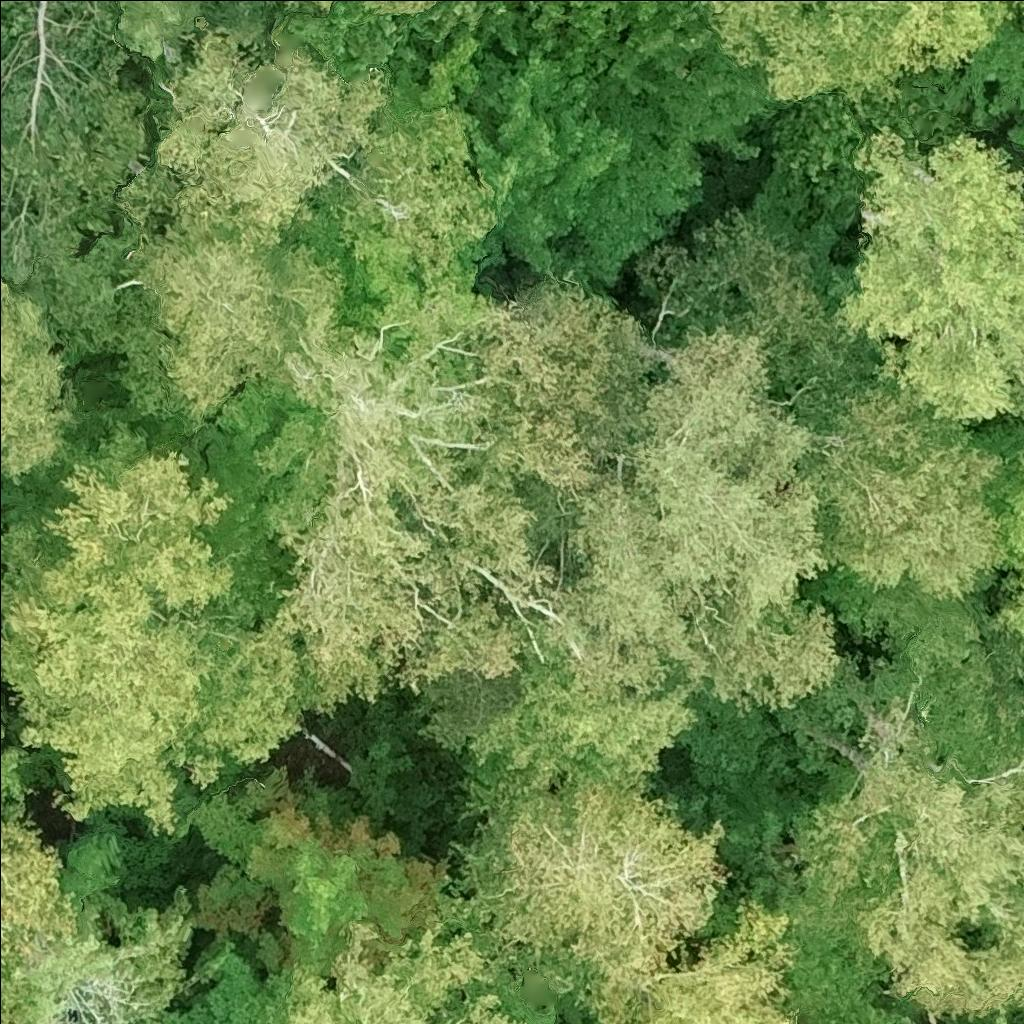crown: (253, 267, 668, 716), (546, 320, 849, 720), (451, 757, 807, 1023), (792, 698, 1023, 1008), (455, 34, 706, 284), (0, 568, 228, 837), (834, 124, 1023, 428), (109, 205, 353, 437), (792, 339, 1006, 601), (150, 15, 392, 245), (0, 415, 242, 620), (245, 789, 457, 974), (702, 0, 1017, 119), (325, 105, 502, 290), (467, 654, 698, 790), (0, 882, 199, 1023), (276, 919, 531, 1023), (188, 765, 298, 943), (526, 0, 716, 102), (186, 616, 312, 768), (635, 38, 785, 159), (0, 279, 80, 491), (970, 415, 1023, 672), (111, 0, 282, 78), (0, 804, 81, 953), (189, 939, 294, 1023), (369, 0, 457, 18), (280, 0, 348, 12), (159, 1011, 194, 1023), (1014, 0, 1023, 14), (589, 1021, 595, 1023)
